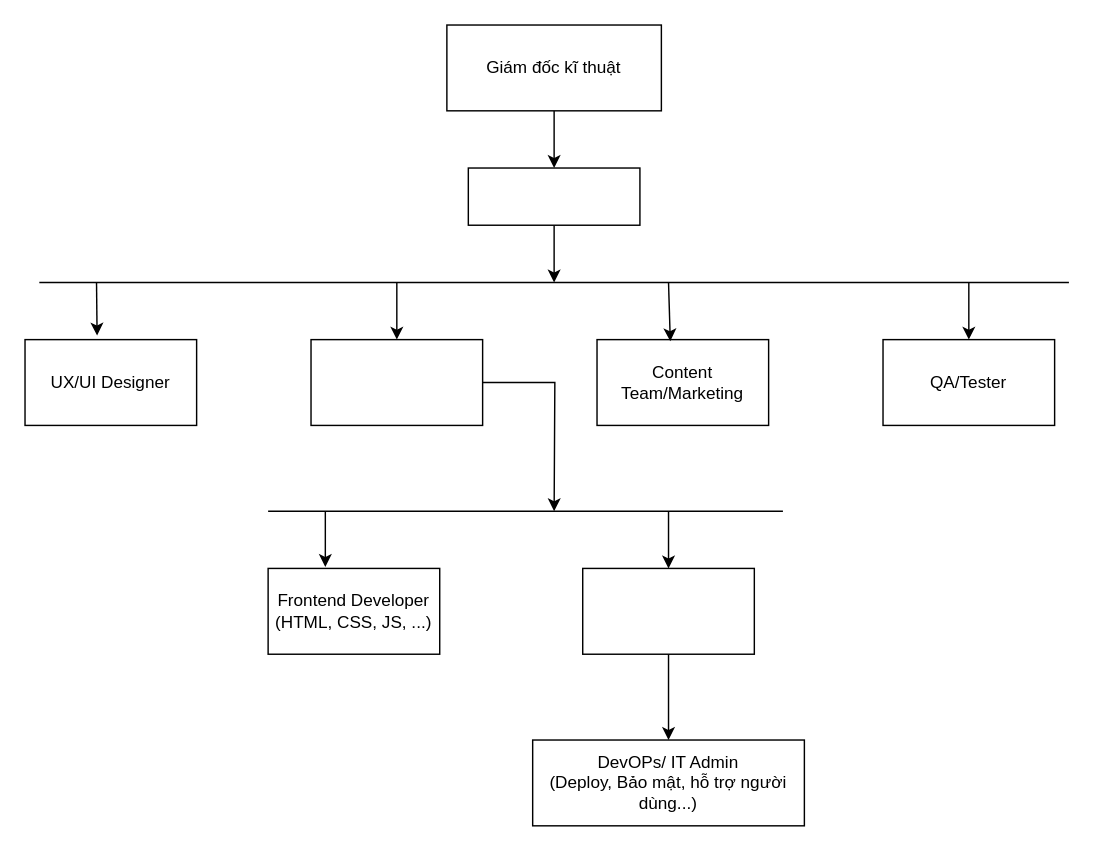
Image size: 1095x851. Some labels were removed from this diagram. Each missing label, with the centre of its shape:
Backend Developer (Server, APIs, Database,...): pixel 667 610
Developer Team: pixel 396 381
Project Manager: pixel 553 196
